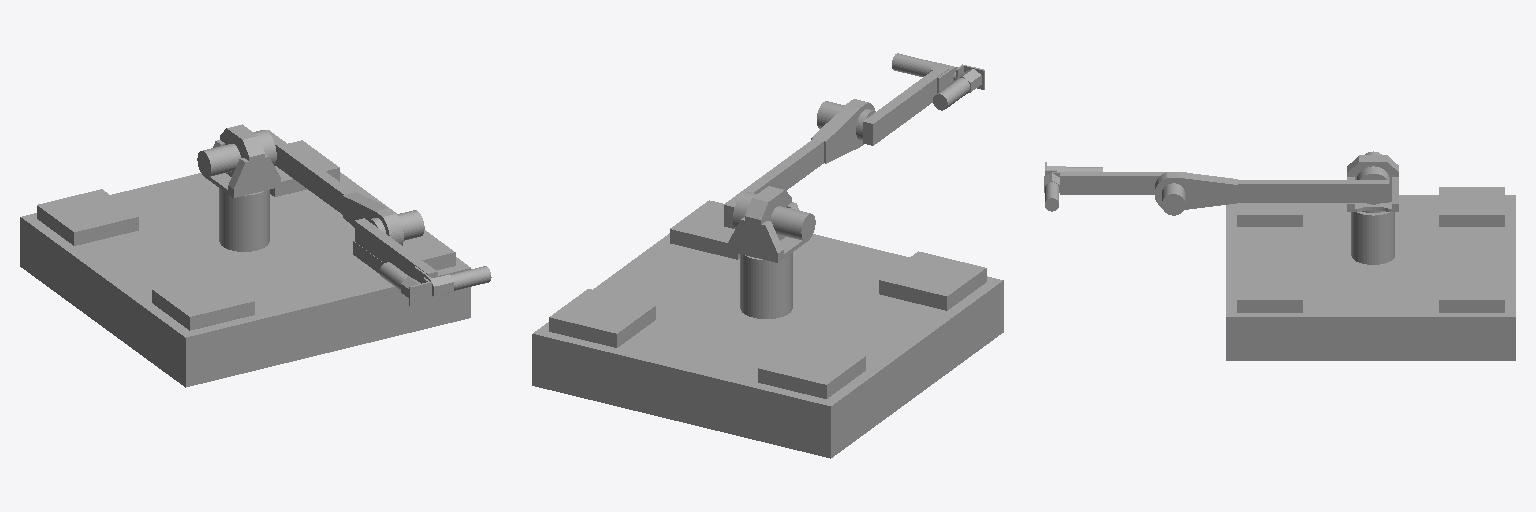
URDF robot description (very):
<?xml version="1.0" ?>
<!-- =================================================================================== -->
<!-- |    This document was autogenerated by xacro from /root/catkin_ws/src/robotics_arm_urdf/urdf/very.xacro | -->
<!-- |    EDITING THIS FILE BY HAND IS NOT RECOMMENDED                                 | -->
<!-- =================================================================================== -->
<robot name="very">
    <material name="silver">
        <color rgba="0.700 0.700 0.700 1.000" />
    </material>
    <transmission name="joint1_tran">
        <type>transmission_interface/SimpleTransmission</type>
        <joint name="joint1">
            <hardwareInterface>hardware_interface/EffortJointInterface</hardwareInterface>
        </joint>
        <actuator name="joint1_actr">
            <hardwareInterface>hardware_interface/EffortJointInterface</hardwareInterface>
            <mechanicalReduction>1</mechanicalReduction>
        </actuator>
    </transmission>
    <transmission name="joint2_tran">
        <type>transmission_interface/SimpleTransmission</type>
        <joint name="joint2">
            <hardwareInterface>hardware_interface/EffortJointInterface</hardwareInterface>
        </joint>
        <actuator name="joint2_actr">
            <hardwareInterface>hardware_interface/EffortJointInterface</hardwareInterface>
            <mechanicalReduction>1</mechanicalReduction>
        </actuator>
    </transmission>
    <transmission name="joint3_tran">
        <type>transmission_interface/SimpleTransmission</type>
        <joint name="joint3">
            <hardwareInterface>hardware_interface/EffortJointInterface</hardwareInterface>
        </joint>
        <actuator name="joint3_actr">
            <hardwareInterface>hardware_interface/EffortJointInterface</hardwareInterface>
            <mechanicalReduction>1</mechanicalReduction>
        </actuator>
    </transmission>
    <transmission name="joint4_tran">
        <type>transmission_interface/SimpleTransmission</type>
        <joint name="joint4">
            <hardwareInterface>hardware_interface/EffortJointInterface</hardwareInterface>
        </joint>
        <actuator name="joint4_actr">
            <hardwareInterface>hardware_interface/EffortJointInterface</hardwareInterface>
            <mechanicalReduction>1</mechanicalReduction>
        </actuator>
    </transmission>
    <gazebo>
        <plugin filename="libgazebo_ros_control.so" name="control" />
        <plugin name="gazebo_ros_control" filename="libgazebo_ros_control.so">
            <robotNamespace>/</robotNamespace>
        </plugin>
    </gazebo>
    <gazebo reference="base_link">
        <material>Gazebo/Silver</material>
        <mu1>0.2</mu1>
        <mu2>0.2</mu2>
        <selfCollide>true</selfCollide>
        <gravity>true</gravity>
    </gazebo>
    <gazebo reference="J2_1">
        <material>Gazebo/Silver</material>
        <mu1>0.2</mu1>
        <mu2>0.2</mu2>
        <selfCollide>true</selfCollide>
    </gazebo>
    <gazebo reference="J3_1">
        <material>Gazebo/Silver</material>
        <mu1>0.2</mu1>
        <mu2>0.2</mu2>
        <selfCollide>true</selfCollide>
    </gazebo>
    <gazebo reference="J4_1">
        <material>Gazebo/Silver</material>
        <mu1>0.2</mu1>
        <mu2>0.2</mu2>
        <selfCollide>true</selfCollide>
    </gazebo>
    <gazebo reference="J5_1">
        <material>Gazebo/Silver</material>
        <mu1>0.2</mu1>
        <mu2>0.2</mu2>
        <selfCollide>true</selfCollide>
    </gazebo>
    <link name="base_link">
        <inertial>
            <origin rpy="0 0 0" xyz="1.786500008006684e-05 0.00012165639228690033 0.06699175592851545" />
            <mass value="535.8223914164653" />
            <inertia ixx="24.551577" ixy="1e-05" ixz="-0.000609" iyy="24.553882" iyz="-0.008012" izz="47.222961" />
        </inertial>
        <visual>
            <origin rpy="0 0 0" xyz="0 0 0" />
            <geometry>
                <mesh filename="package://robotics_arm_urdf/meshes/base_link.stl" scale="0.001 0.001 0.001" />
            </geometry>
            <material name="silver" />
        </visual>
        <collision>
            <origin rpy="0 0 0" xyz="0 0 0" />
            <geometry>
                <mesh filename="package://robotics_arm_urdf/meshes/base_link.stl" scale="0.001 0.001 0.001" />
            </geometry>
        </collision>
    </link>
    <link name="J2_1">
        <inertial>
            <origin rpy="0 0 0" xyz="-0.016991904377805584 -2.479257345889066e-07 0.05564737429303507" />
            <mass value="8.725021578617188" />
            <inertia ixx="0.020867" ixy="0.0" ixz="0.001526" iyy="0.01847" iyz="0.0" izz="0.020756" />
        </inertial>
        <visual>
            <origin rpy="0 0 0" xyz="0.00014 -0.006362 -0.259291" />
            <geometry>
                <mesh filename="package://robotics_arm_urdf/meshes/J2_1.stl" scale="0.001 0.001 0.001" />
            </geometry>
            <material name="silver" />
        </visual>
        <collision>
            <origin rpy="0 0 0" xyz="0.00014 -0.006362 -0.259291" />
            <geometry>
                <mesh filename="package://robotics_arm_urdf/meshes/J2_1.stl" scale="0.001 0.001 0.001" />
            </geometry>
        </collision>
    </link>
    <link name="J3_1">
        <inertial>
            <origin rpy="0 0 0" xyz="0.055032013453155115 -0.27922124726006753 1.224065103722083e-07" />
            <mass value="11.34516891418952" />
            <inertia ixx="0.466304" ixy="0.033102" ixz="-0.0" iyy="0.011006" iyz="0.0" izz="0.469118" />
        </inertial>
        <visual>
            <origin rpy="0 0 0" xyz="-0.01486 -0.006362 -0.331291" />
            <geometry>
                <mesh filename="package://robotics_arm_urdf/meshes/J3_1.stl" scale="0.001 0.001 0.001" />
            </geometry>
            <material name="silver" />
        </visual>
        <collision>
            <origin rpy="0 0 0" xyz="-0.01486 -0.006362 -0.331291" />
            <geometry>
                <mesh filename="package://robotics_arm_urdf/meshes/J3_1.stl" scale="0.001 0.001 0.001" />
            </geometry>
        </collision>
    </link>
    <link name="J4_1">
        <inertial>
            <origin rpy="0 0 0" xyz="-0.014361359821615675 -0.16199153769784758 1.2240513108663365e-07" />
            <mass value="5.126352738450512" />
            <inertia ixx="0.073281" ixy="0.007898" ixz="0.0" iyy="0.006158" iyz="-0.0" izz="0.077483" />
        </inertial>
        <visual>
            <origin rpy="0 0 0" xyz="-0.05186 0.493638 -0.331291" />
            <geometry>
                <mesh filename="package://robotics_arm_urdf/meshes/J4_1.stl" scale="0.001 0.001 0.001" />
            </geometry>
            <material name="silver" />
        </visual>
        <collision>
            <origin rpy="0 0 0" xyz="-0.05186 0.493638 -0.331291" />
            <geometry>
                <mesh filename="package://robotics_arm_urdf/meshes/J4_1.stl" scale="0.001 0.001 0.001" />
            </geometry>
        </collision>
    </link>
    <link name="J5_1">
        <inertial>
            <origin rpy="0 0 0" xyz="-0.0331204755365671 0.04815190305946215 1.2240129576568393e-07" />
            <mass value="1.4049124718717072" />
            <inertia ixx="0.002823" ixy="9.3e-05" ixz="0.0" iyy="0.000321" iyz="0.0" izz="0.002868" />
        </inertial>
        <visual>
            <origin rpy="0 0 0" xyz="-0.003859 0.798113 -0.331291" />
            <geometry>
                <mesh filename="package://robotics_arm_urdf/meshes/J5_1.stl" scale="0.001 0.001 0.001" />
            </geometry>
            <material name="silver" />
        </visual>
        <collision>
            <origin rpy="0 0 0" xyz="-0.003859 0.798113 -0.331291" />
            <geometry>
                <mesh filename="package://robotics_arm_urdf/meshes/J5_1.stl" scale="0.001 0.001 0.001" />
            </geometry>
        </collision>
    </link>
    <joint name="joint1" type="continuous">
        <origin rpy="0 0 0" xyz="-0.00014 0.006362 0.259291" />
        <parent link="base_link" />
        <child link="J2_1" />
        <axis xyz="0.0 0.0 1.0" />
    </joint>
    <joint name="joint2" type="continuous">
        <origin rpy="0 0 0" xyz="0.015 0.0 0.072" />
        <parent link="J2_1" />
        <child link="J3_1" />
        <axis xyz="-1.0 -0.0 0.0" />
    </joint>
    <joint name="joint3" type="continuous">
        <origin rpy="0 0 0" xyz="0.037 -0.5 0.0" />
        <parent link="J3_1" />
        <child link="J4_1" />
        <axis xyz="-1.0 -0.0 0.0" />
    </joint>
    <joint name="joint4" type="continuous">
        <origin rpy="0 0 0" xyz="-0.048001 -0.304475 0.0" />
        <parent link="J4_1" />
        <child link="J5_1" />
        <axis xyz="1.0 0.0 -0.0" />
    </joint>
</robot>

--- What the picture shows (computed from the rendered views, not written in the file) ---
Views: 3 orthographic renders of the robot side by side, from view 1: azimuth 30°, elevation 25°; view 2: azimuth 150°, elevation 25°; view 3: azimuth 270°, elevation 25°.
Robot: very — 5 links, 4 joints (4 continuous); root link base_link; default pose: every joint at zero.
Visible links, largest first — view 1: base_link, J3_1, J2_1, J4_1, J5_1; view 2: base_link, J3_1, J2_1, J4_1, J5_1; view 3: base_link, J3_1, J4_1, J2_1.
Boxes of the visible links, <box> form: base_link: <box>20,140,470,387</box>; J3_1: <box>254,130,424,245</box>; J2_1: <box>197,124,280,197</box>; J4_1: <box>355,218,491,296</box>; J5_1: <box>379,262,431,305</box>; base_link: <box>532,200,1003,458</box>; J3_1: <box>724,99,874,228</box>; J2_1: <box>728,186,815,262</box>; J4_1: <box>856,53,957,145</box>; J5_1: <box>933,64,984,110</box>; base_link: <box>1226,187,1515,360</box>; J3_1: <box>1155,166,1390,215</box>; J4_1: <box>1044,172,1186,211</box>; J2_1: <box>1347,151,1398,212</box>.
Bounding box of the posed robot: 0.7239 × 1.18 × 0.3863 m (x, y, z).
Meshes: 5 distinct files referenced, 5 mesh visuals loaded (5 binary STL).
